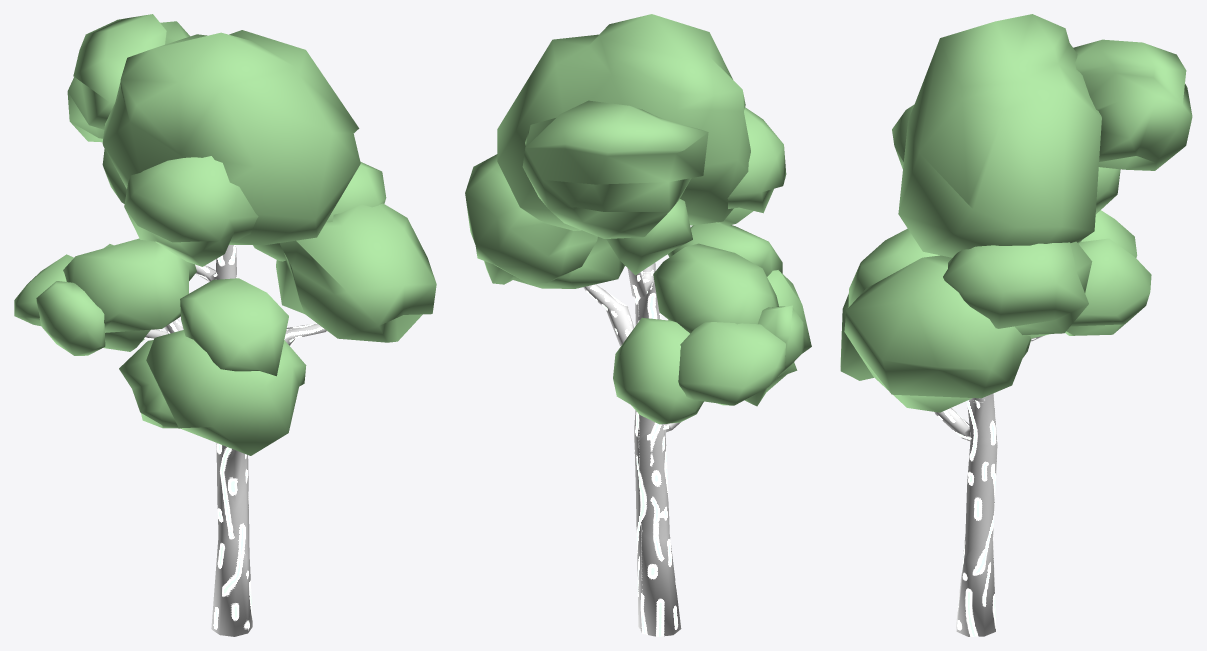
The model's file is birchtree_05.fbx.
3 renders of one model, left to right at view 1: azimuth 30°, elevation 25°; view 2: azimuth 150°, elevation 25°; view 3: azimuth 270°, elevation 25°, orthographic. The views are drawn at different scales.
Parts seen in each view (by area): view 1: PP_Birch_Tree_05; view 2: PP_Birch_Tree_05; view 3: PP_Birch_Tree_05.
Part boxes in pixels (x1=…): PP_Birch_Tree_05: x1=14, y1=14, x2=436, y2=636; PP_Birch_Tree_05: x1=465, y1=14, x2=811, y2=636; PP_Birch_Tree_05: x1=840, y1=14, x2=1192, y2=636.
Bounding box in the file's own units: 499 × 825 × 434.
